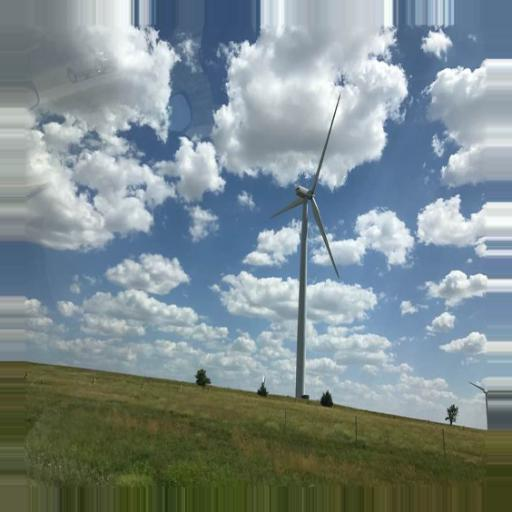wind turbine: (269, 94, 341, 400)
